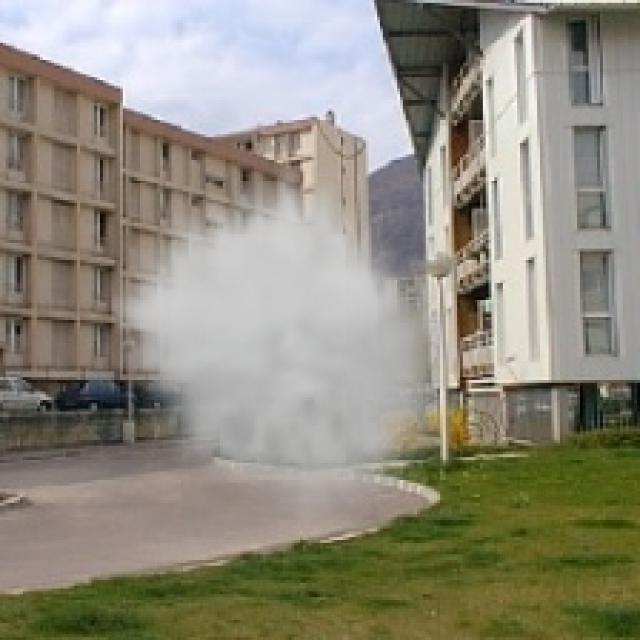smoke: (112, 166, 457, 528)
